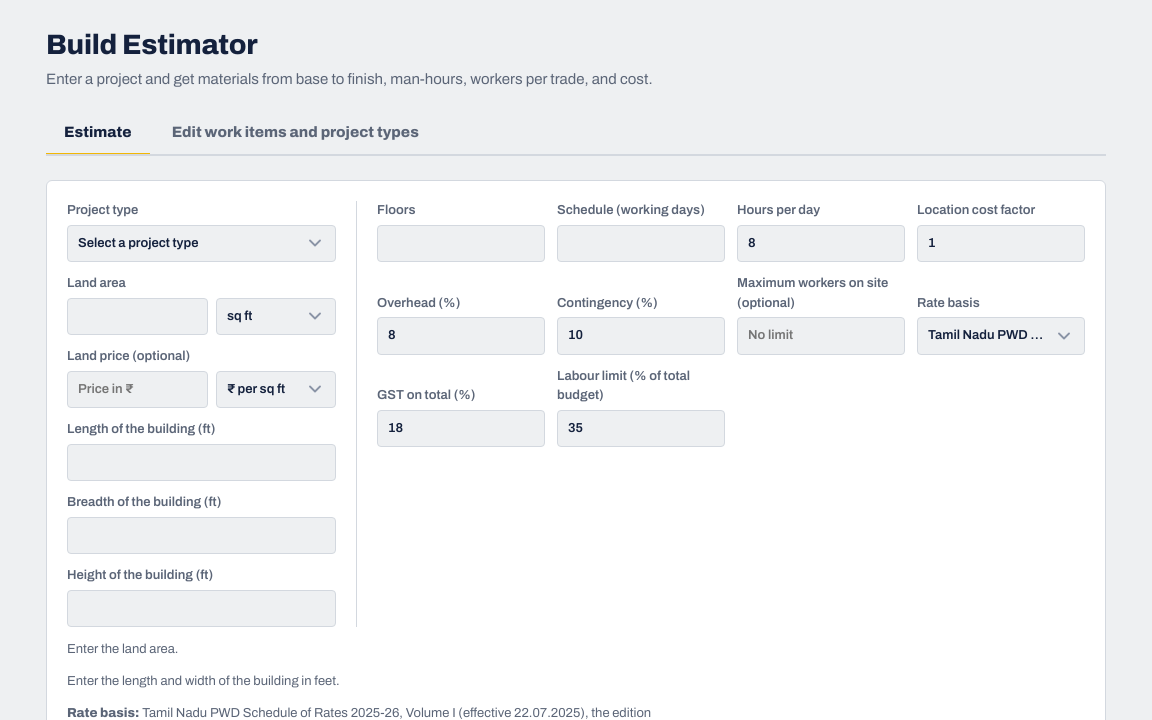
Test: App › the edit page works before any project is chosen
Step 1. Click the tab "Edit work items and project types" → [295, 133], box [154,110,437,156]
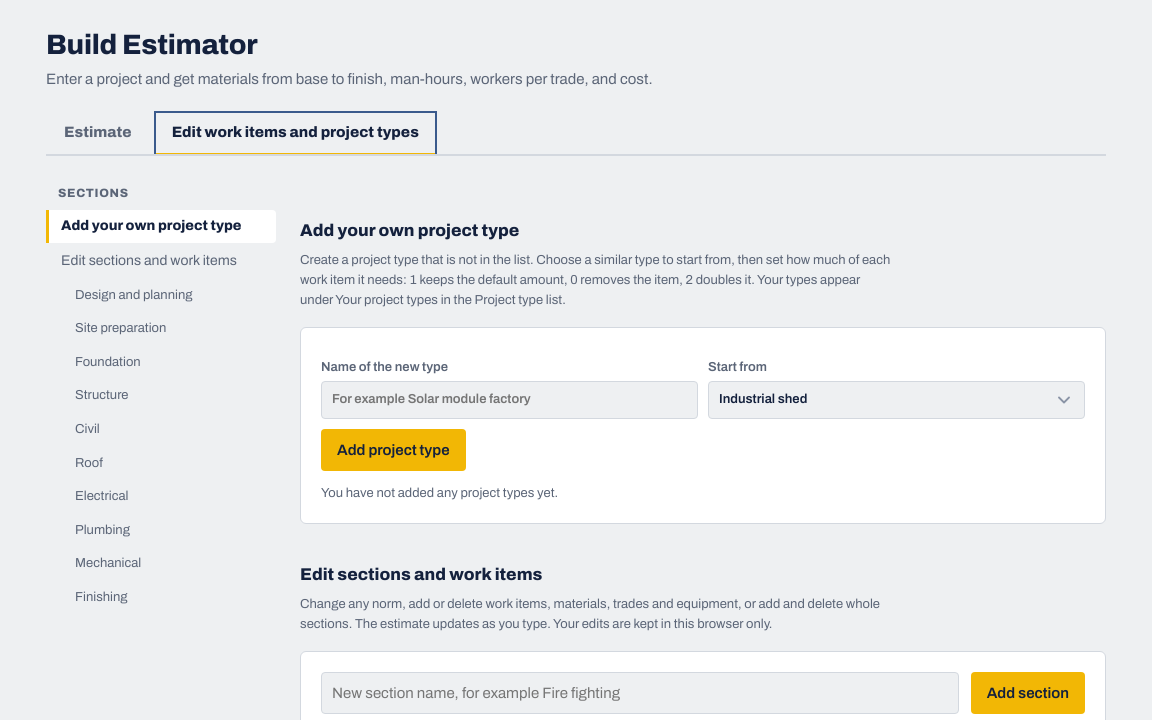
Expected: the heading "Edit sections and work items" is shown, [300,565,542,584]
